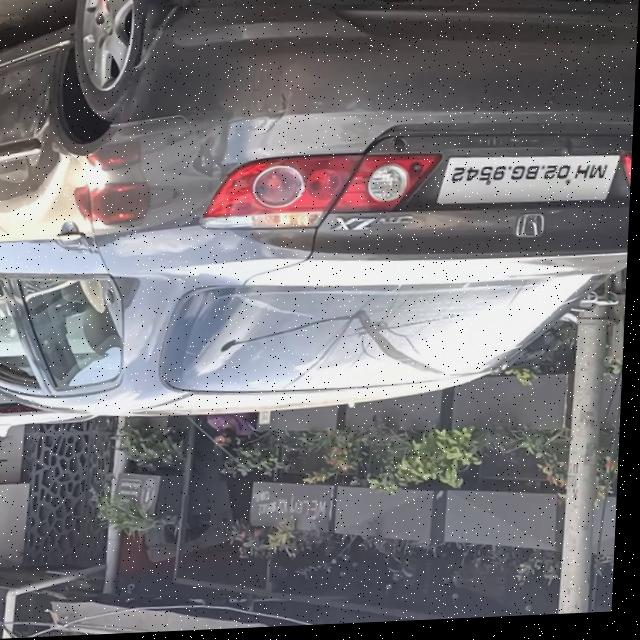plate: (436, 154, 625, 213)
